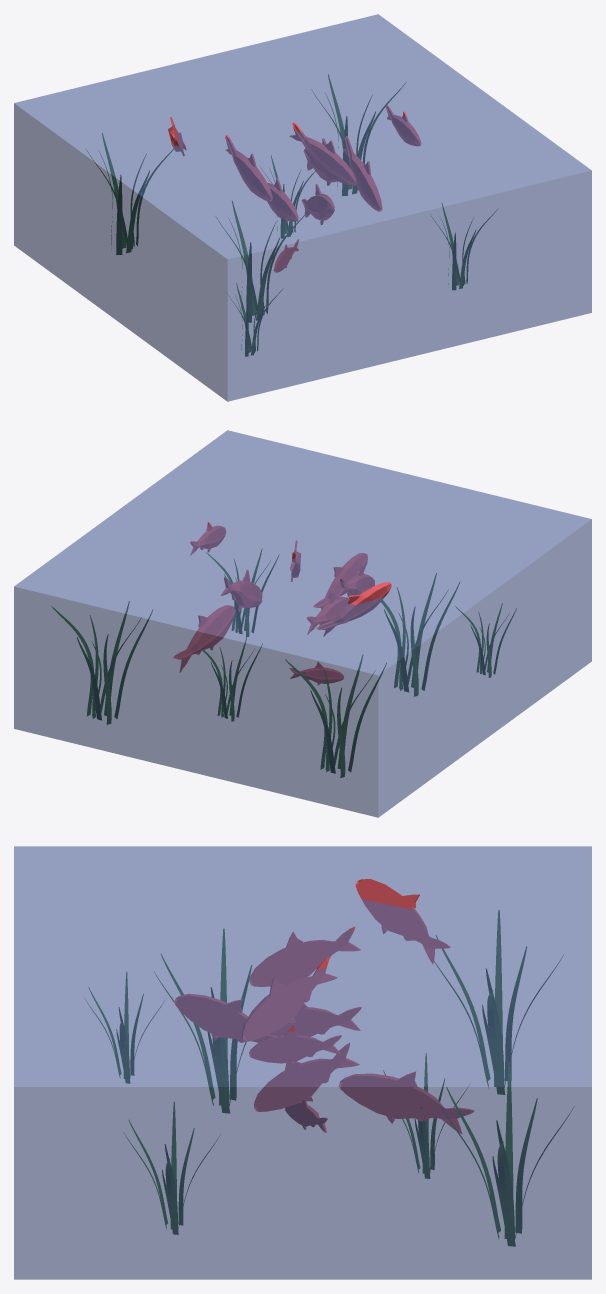
File: sakana2.gltf
The picture shows the model from 3 angles, top to bottom: view 1: azimuth 30°, elevation 25°; view 2: azimuth 150°, elevation 25°; view 3: azimuth 270°, elevation 25°; orthographic projection. The views are drawn at different scales.
Visible parts, largest first — view 1: 立方体, 平面.011, 平面.010, 平面.007, 平面.009, 平面.013, 平面.012, 平面.031; view 2: 立方体, 平面.007, 平面.011, 平面.010, 平面.008, 平面.012, 平面.043, 平面.009, 平面.025, 平面.037; view 3: 立方体, 平面.007, 平面.011, 平面.043, 平面.010, 平面.025, 平面.037, 平面.031, 平面.013, 平面.001, 平面.009, 平面.061 (+3 smaller).
Part boxes in pixels (bbox=[...]): 立方体: bbox=[14, 14, 591, 401]; 平面.011: bbox=[87, 133, 173, 254]; 平面.010: bbox=[216, 201, 309, 322]; 平面.007: bbox=[314, 74, 405, 195]; 平面.009: bbox=[433, 203, 497, 289]; 平面.013: bbox=[303, 140, 354, 185]; 平面.012: bbox=[233, 283, 282, 356]; 平面.031: bbox=[232, 153, 271, 201]; 立方体: bbox=[14, 430, 591, 817]; 平面.007: bbox=[51, 601, 152, 724]; 平面.011: bbox=[285, 655, 386, 777]; 平面.010: bbox=[381, 573, 459, 696]; 平面.008: bbox=[203, 638, 262, 721]; 平面.012: bbox=[455, 603, 516, 677]; 平面.043: bbox=[191, 607, 235, 653]; 平面.009: bbox=[206, 550, 278, 637]; 平面.025: bbox=[336, 584, 391, 624]; 平面.037: bbox=[230, 585, 261, 607]; 立方体: bbox=[14, 846, 591, 1279]; 平面.007: bbox=[440, 1062, 572, 1246]; 平面.011: bbox=[434, 910, 561, 1094]; 平面.043: bbox=[339, 1076, 442, 1123]; 平面.010: bbox=[154, 929, 251, 1113]; 平面.025: bbox=[355, 879, 427, 942]; 平面.037: bbox=[254, 1060, 334, 1111]; 平面.031: bbox=[250, 942, 335, 986]; 平面.013: bbox=[243, 977, 315, 1041]; 平面.001: bbox=[174, 996, 257, 1042]; 平面.009: bbox=[126, 1102, 217, 1234]; 平面.061: bbox=[249, 1037, 320, 1066].
Size of the model in its own units: 8.86 by 3.63 by 8.99.
